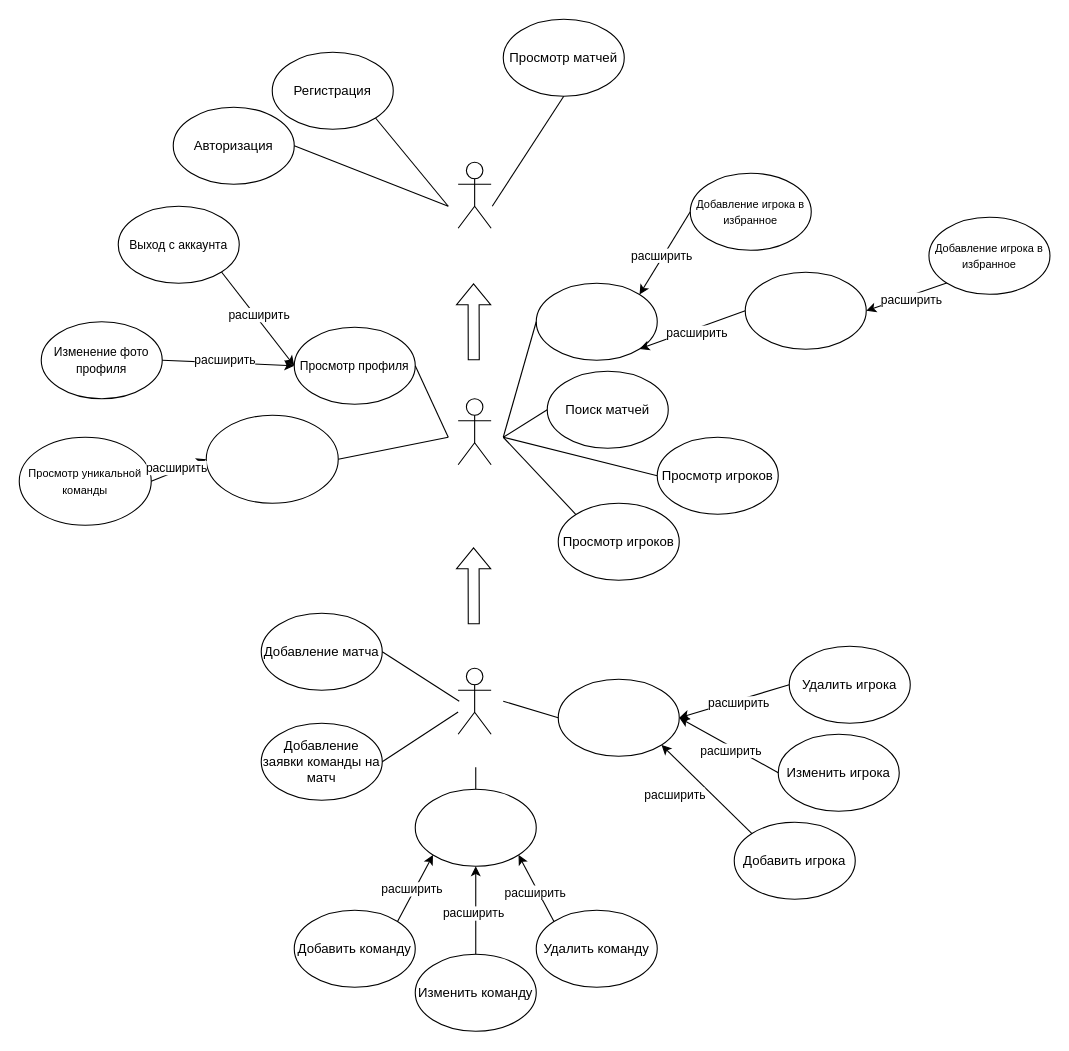
Some shapes in this 1069 by 1051 pixel diagram are drawn without their labels. The centre of each missing label's shape, as x and y in pixels:
ROLE_ADMIN: the point at 474,700
ROLE_UNAUTHORIZED: the point at 474,194
ROLE_USER: the point at 474,431
Просмотр информации о команде: the point at 805,310
Просмотр определенного матча: the point at 596,321
Работа с игроками: the point at 618,717
Работа с командами: the point at 475,827
Составление уникальной команды: the point at 271,458
